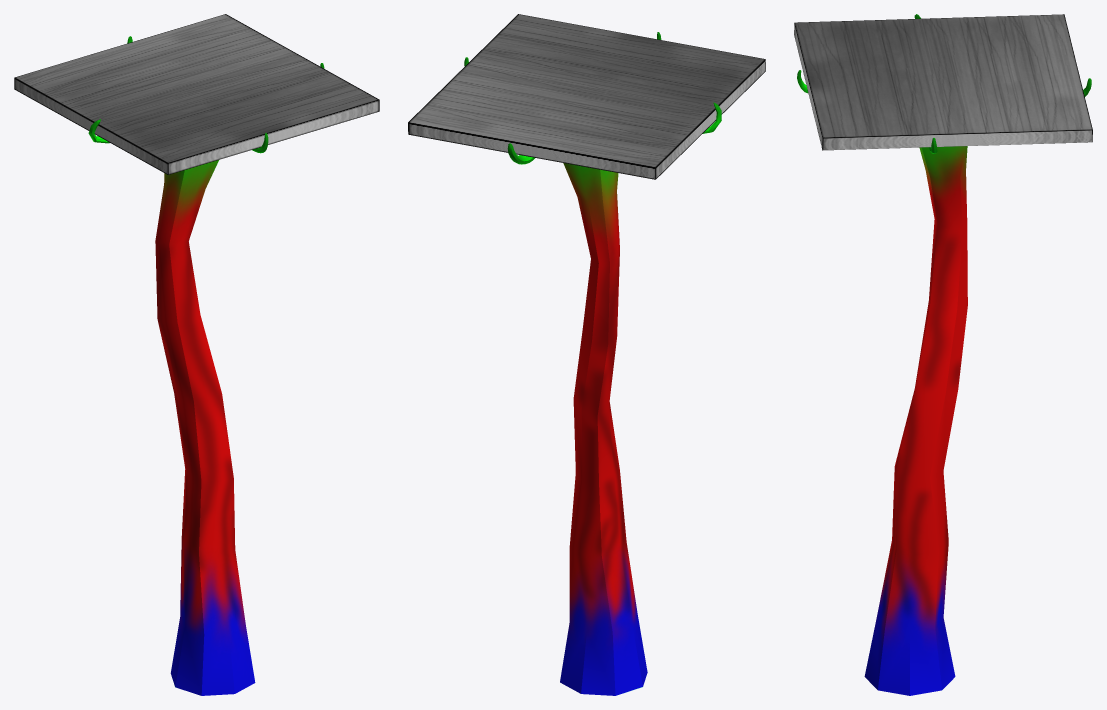
Rendered from Mushroom_Stairs03.fbx.
3 views of the same model, side by side, from view 1: azimuth 30°, elevation 25°; view 2: azimuth 150°, elevation 25°; view 3: azimuth 270°, elevation 25° (orthographic). The views are drawn at different scales.
Visible parts, largest first — view 1: Würfel_1; view 2: Würfel_1; view 3: Würfel_1.
Part boxes in pixels (left/top/right/bottom): Würfel_1: left=14, top=14, right=379, bottom=695; Würfel_1: left=408, top=14, right=765, bottom=695; Würfel_1: left=794, top=14, right=1092, bottom=695.
Size of the model in its own units: 220 by 493 by 220.
2 materials, 2 textured.
